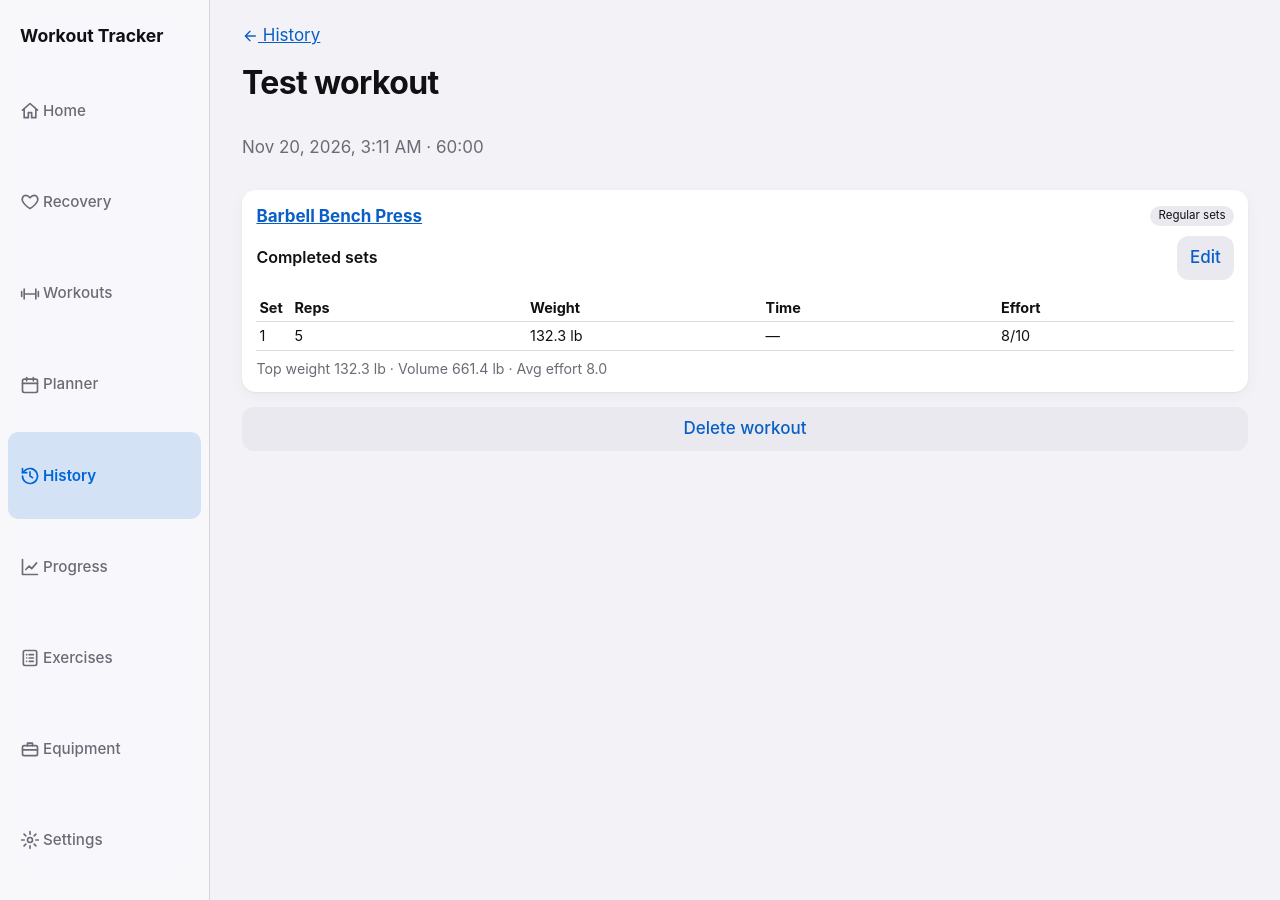
Scenario: history editing › edits a previous exercise and persists the change
Expected: the navigation bar named "Main" is shown, [0,0,210,899]
Expected: the link "Barbell Bench Press" is shown, [256,205,422,228]
Click the button "Edit": (1205, 258) [1177,236,1234,280]
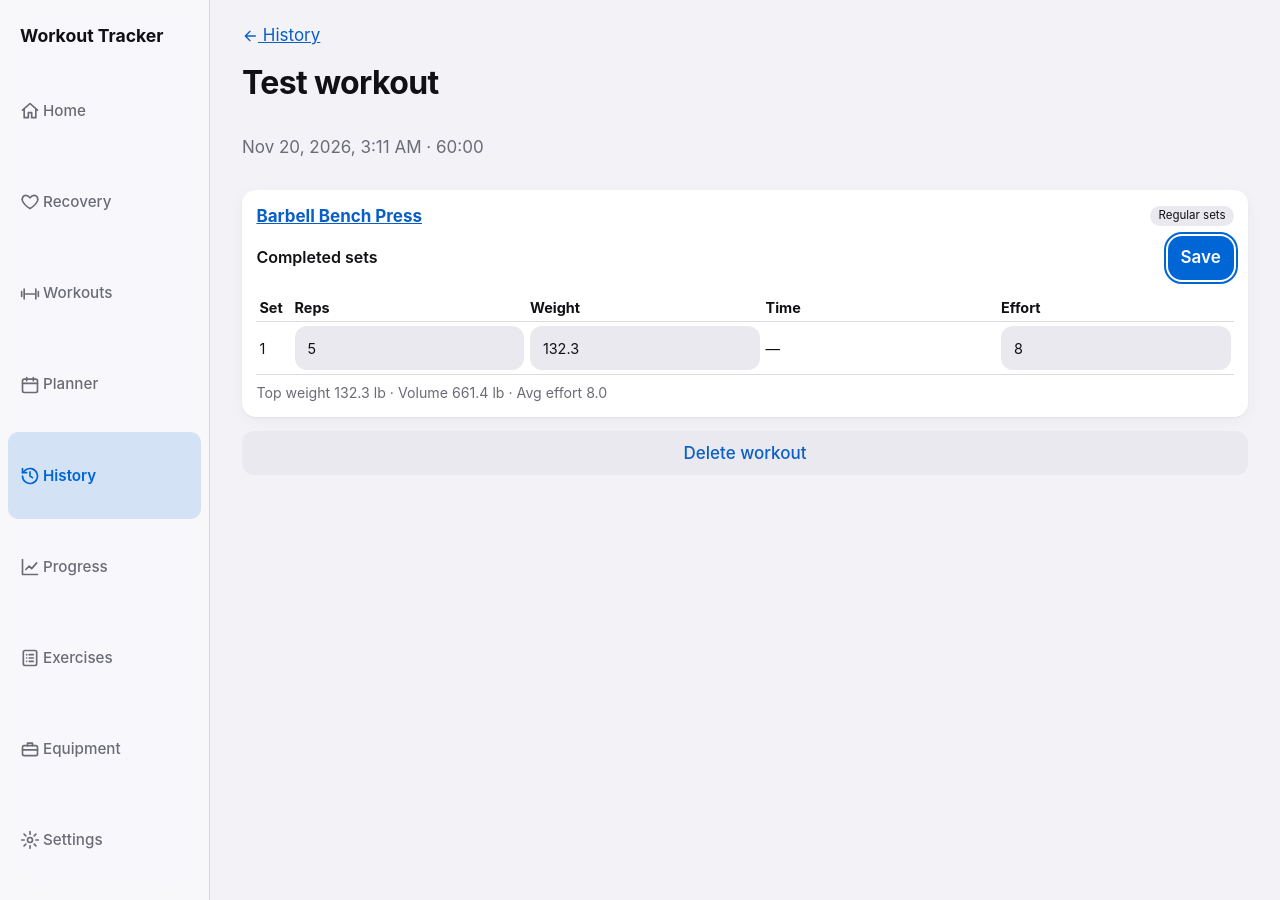
Replace the text in the 1st number field named "Set 1 reps" with "12": (409, 348) [295,326,524,370]
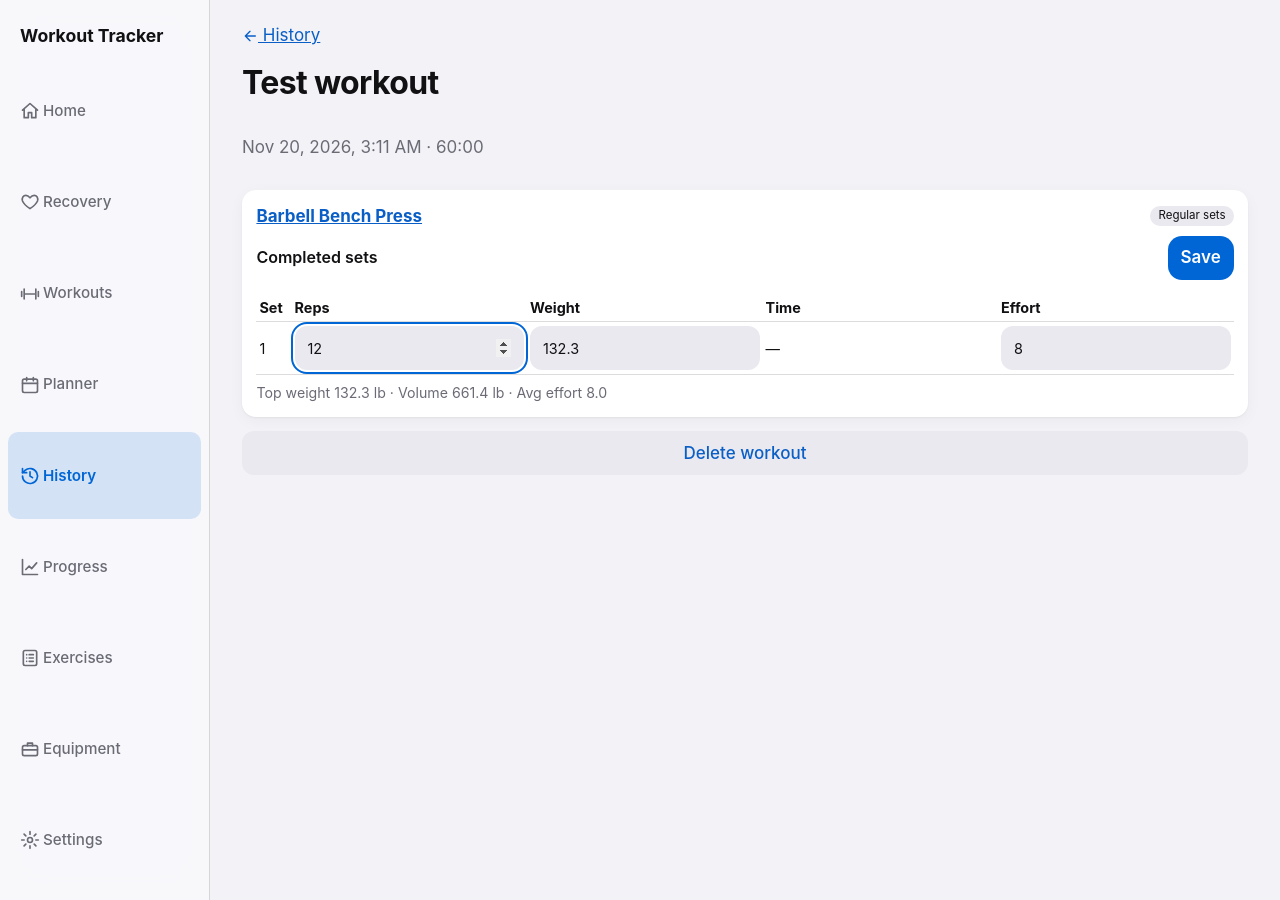
Click the button "Save": (1201, 258) [1168,236,1234,280]
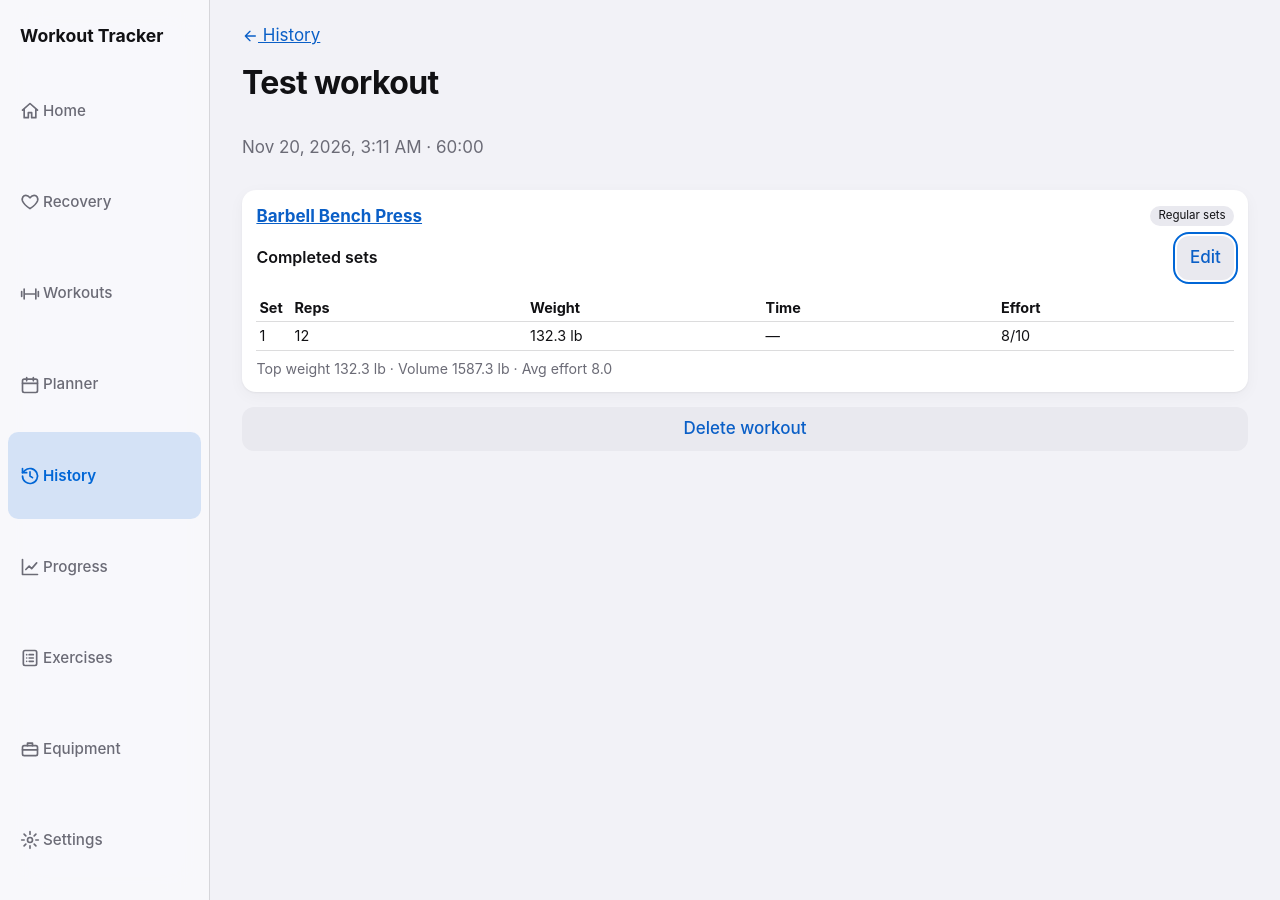
Result: the button "Edit" is shown at [1177,236,1234,280]
